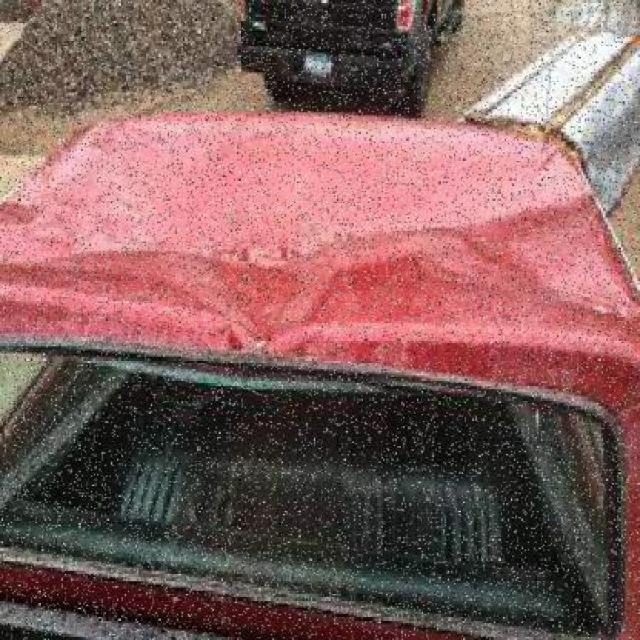roof-dent: (11, 120, 639, 420)
